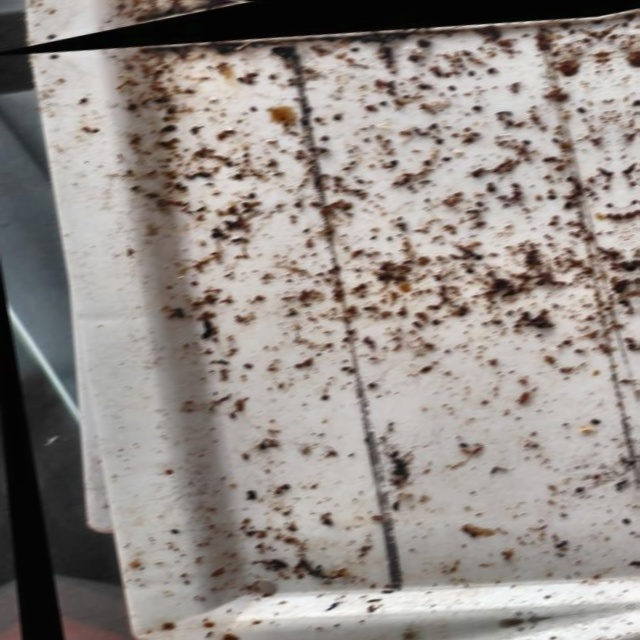varroa: (585, 407, 602, 418), (417, 358, 433, 368), (571, 476, 584, 487), (254, 437, 267, 448), (455, 434, 469, 444), (489, 310, 504, 319), (279, 478, 292, 488), (364, 375, 377, 385), (389, 151, 402, 161), (618, 507, 629, 518), (330, 258, 342, 268), (317, 388, 330, 397), (300, 353, 313, 362), (247, 100, 260, 109), (129, 99, 142, 108), (78, 93, 89, 103), (81, 123, 93, 132), (345, 323, 356, 332), (472, 246, 483, 255), (471, 163, 482, 172), (447, 76, 458, 85), (576, 96, 587, 105), (159, 137, 171, 145), (350, 39, 362, 47), (471, 97, 483, 105), (605, 160, 615, 169), (333, 108, 343, 117), (431, 312, 442, 320), (292, 357, 303, 365), (474, 193, 485, 201), (496, 187, 507, 195), (246, 187, 257, 195), (433, 130, 444, 138), (422, 152, 433, 160), (441, 148, 453, 155), (620, 290, 630, 298), (563, 192, 573, 200), (166, 103, 176, 111), (429, 115, 439, 123), (505, 111, 515, 119), (465, 129, 475, 137), (541, 147, 551, 155), (320, 129, 330, 137), (418, 77, 429, 84), (354, 173, 365, 180), (567, 167, 576, 175), (269, 68, 278, 76), (522, 130, 531, 138), (549, 146, 557, 155), (242, 358, 252, 365), (546, 185, 556, 192), (605, 193, 615, 200), (574, 175, 582, 183), (597, 159, 605, 167), (489, 59, 497, 67), (551, 128, 559, 136), (510, 174, 519, 181), (241, 197, 250, 204), (238, 72, 247, 79), (434, 64, 443, 71), (512, 182, 522, 188), (245, 74, 255, 80), (468, 62, 476, 69), (423, 19, 435, 23), (249, 67, 258, 72), (315, 112, 323, 117), (404, 21, 412, 25)
